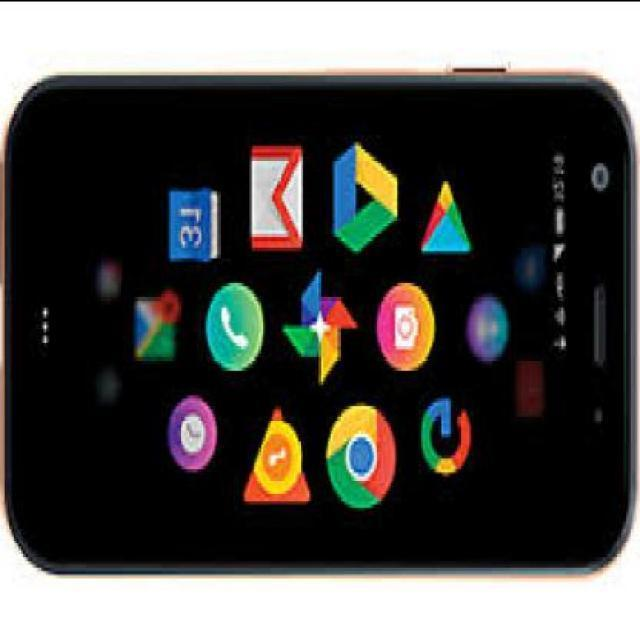phone: (2, 71, 638, 577)
